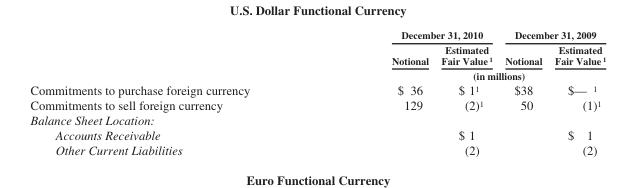table: (29, 28, 605, 157)
table column: (29, 28, 320, 157), (320, 28, 434, 157), (434, 28, 498, 157), (547, 28, 605, 157), (498, 28, 547, 157)
table column header: (29, 28, 605, 81)
table projected row header: (29, 112, 605, 127)
table row: (29, 42, 605, 67), (29, 81, 605, 97), (29, 97, 605, 112), (29, 112, 605, 127), (29, 127, 605, 142), (29, 142, 605, 157), (29, 28, 605, 42), (29, 67, 605, 81)
table spanning cell: (320, 67, 605, 81), (320, 28, 498, 42), (498, 28, 605, 42)
